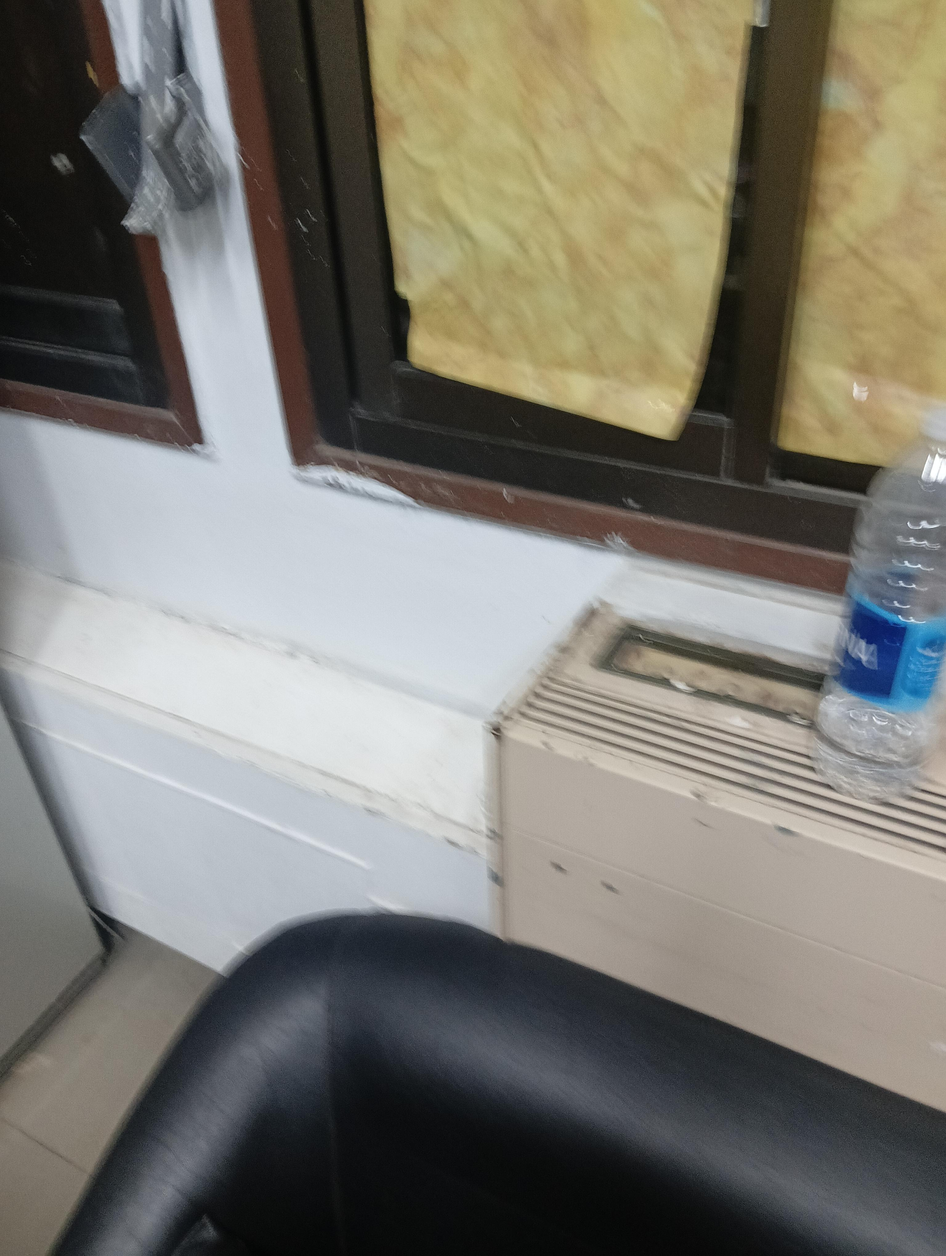Bottle: (812, 406, 946, 799)
